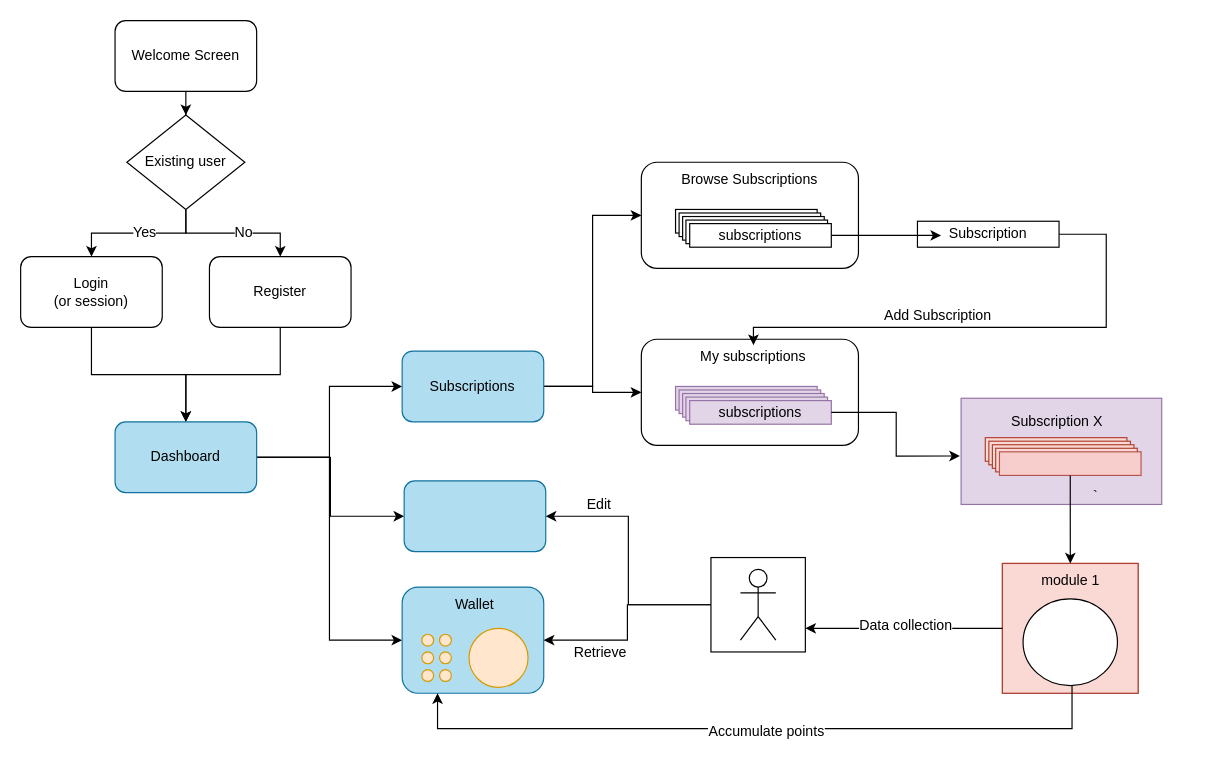
This 1222x760 diagram has some shape labels left out. Each missing label, with the centre of its shape:
"modules" goes at pixel 1069 463.
"Points" goes at pixel 498 657.
"Profile" goes at pixel 474 516.
"Statistics" goes at pixel 1069 642.
